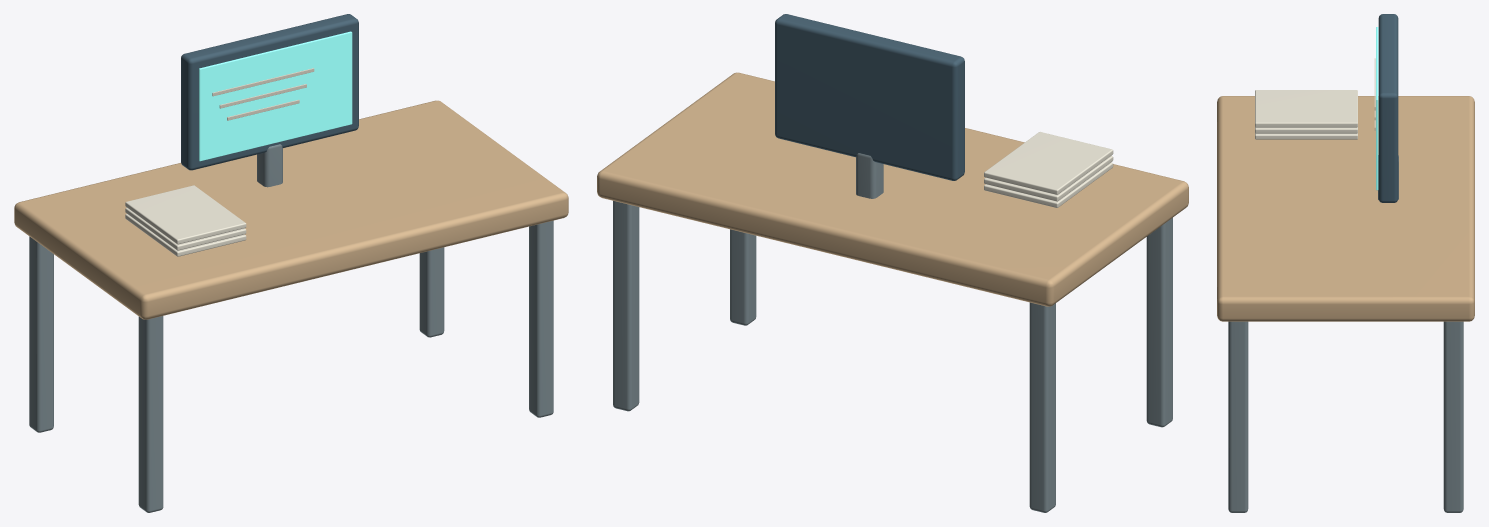
File: alpha_desk.glb
The picture shows the model from 3 angles, left to right: view 1: azimuth 30°, elevation 25°; view 2: azimuth 150°, elevation 25°; view 3: azimuth 270°, elevation 25°; orthographic projection. The views are drawn at different scales.
Parts seen in each view (by area): view 1: Alpha_lightwood, Alpha_metal, Alpha_screen, Alpha_navy, Alpha_paper, Alpha_cream; view 2: Alpha_lightwood, Alpha_navy, Alpha_metal, Alpha_paper; view 3: Alpha_lightwood, Alpha_metal, Alpha_paper, Alpha_navy, Alpha_screen.
Part boxes in pixels (box(x1,y1,x2,y2)): Alpha_lightwood: box(14, 100, 568, 319); Alpha_metal: box(29, 144, 553, 512); Alpha_screen: box(199, 31, 352, 161); Alpha_navy: box(181, 14, 358, 170); Alpha_paper: box(125, 185, 246, 256); Alpha_cream: box(212, 68, 314, 120); Alpha_lightwood: box(597, 72, 1188, 306); Alpha_navy: box(775, 14, 964, 180); Alpha_metal: box(613, 153, 1172, 512); Alpha_paper: box(984, 132, 1113, 207); Alpha_lightwood: box(1217, 96, 1474, 321); Alpha_metal: box(1228, 155, 1463, 512); Alpha_paper: box(1255, 90, 1357, 139); Alpha_navy: box(1378, 14, 1398, 202); Alpha_screen: box(1376, 27, 1378, 190).
Size of the model in its own units: 1.6 by 1.32 by 0.85.
